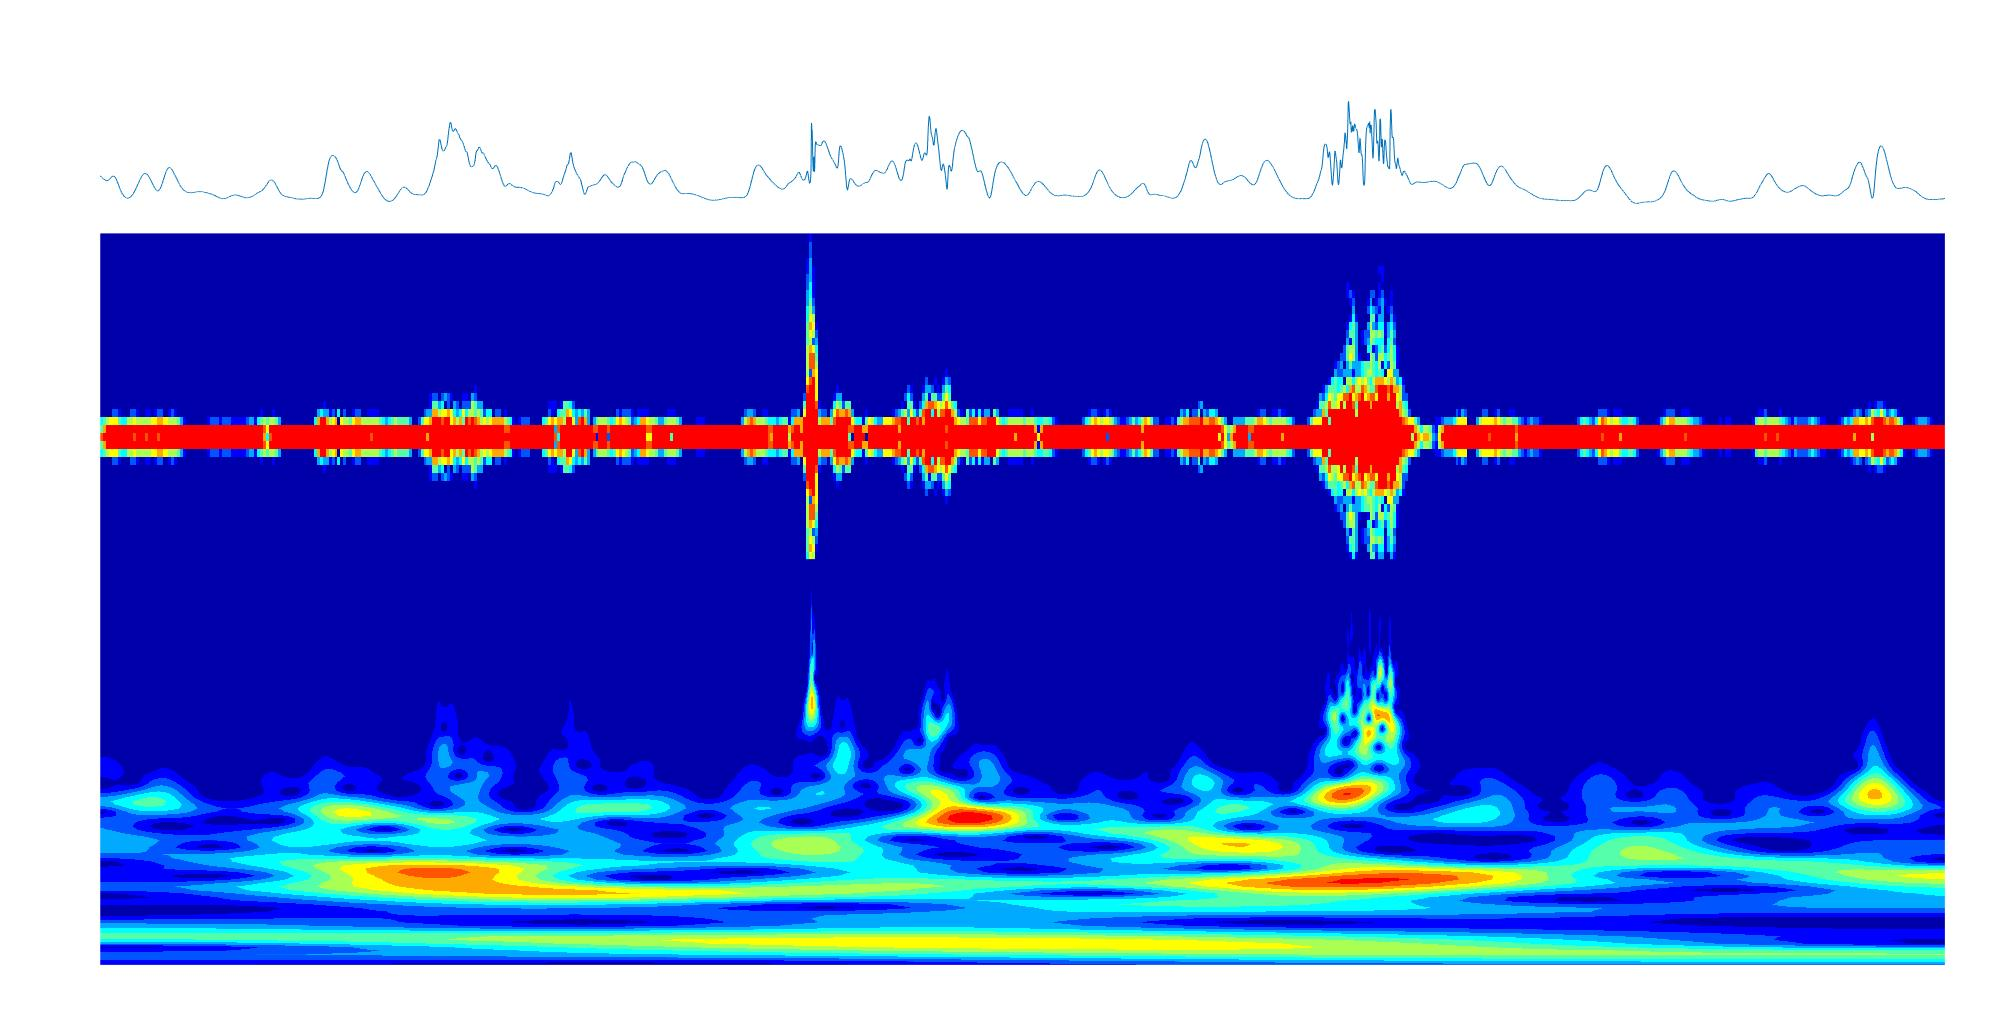TURBULENT: (1319, 233, 1410, 965), (795, 236, 832, 963)
